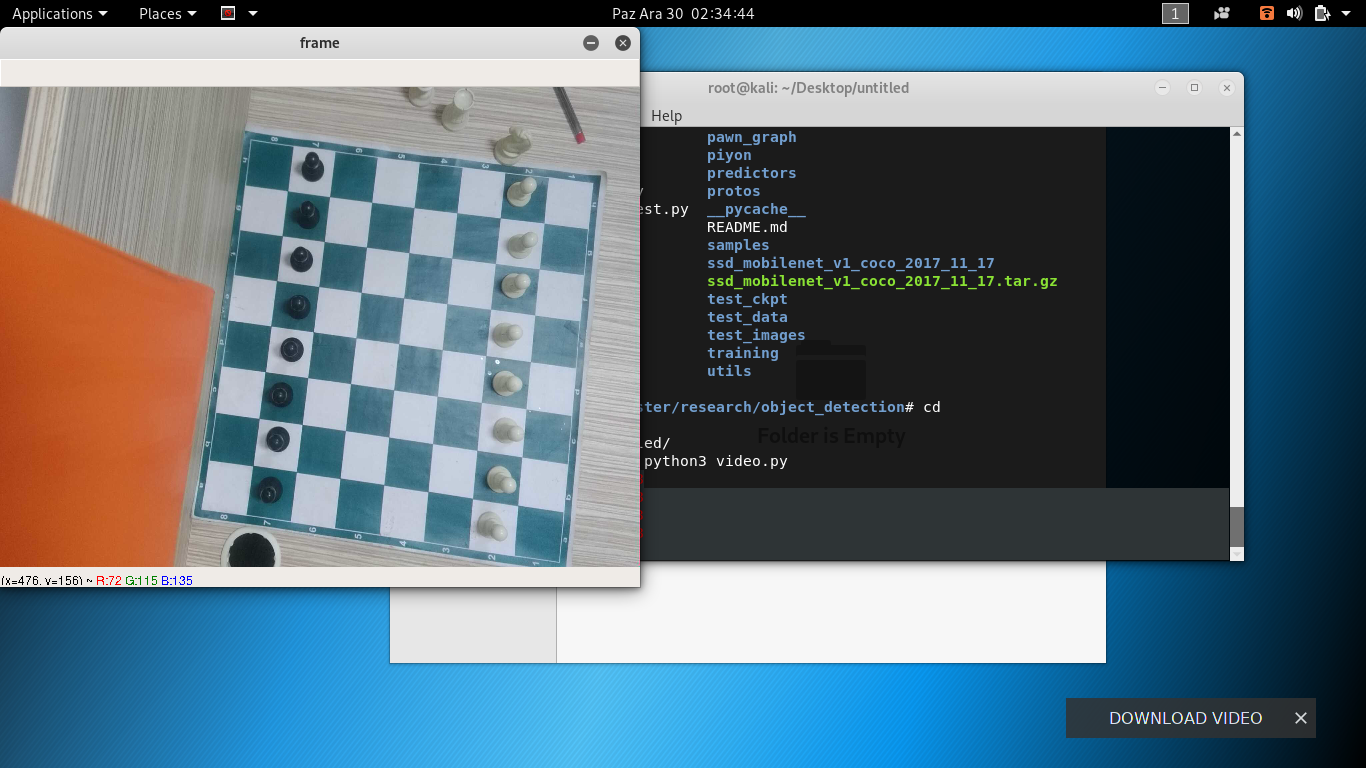BeyazPiyon: (492, 415, 525, 448), (476, 508, 508, 541), (487, 461, 516, 496), (490, 369, 523, 398), (504, 176, 534, 207), (507, 227, 537, 258), (491, 320, 523, 347), (500, 270, 530, 298)
SiyahPiyon: (299, 149, 325, 182), (257, 474, 283, 504), (295, 200, 320, 231), (279, 335, 306, 363), (284, 292, 311, 320), (264, 423, 289, 452), (287, 245, 314, 271), (268, 380, 295, 405)
